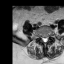CCS_normal: (44, 34, 46, 44)
LFS_stenosis: (48, 32, 50, 39)
LLS_normal: (46, 34, 48, 43)
RFS_stenosis: (39, 33, 41, 40)
RLS_normal: (41, 34, 44, 43)
